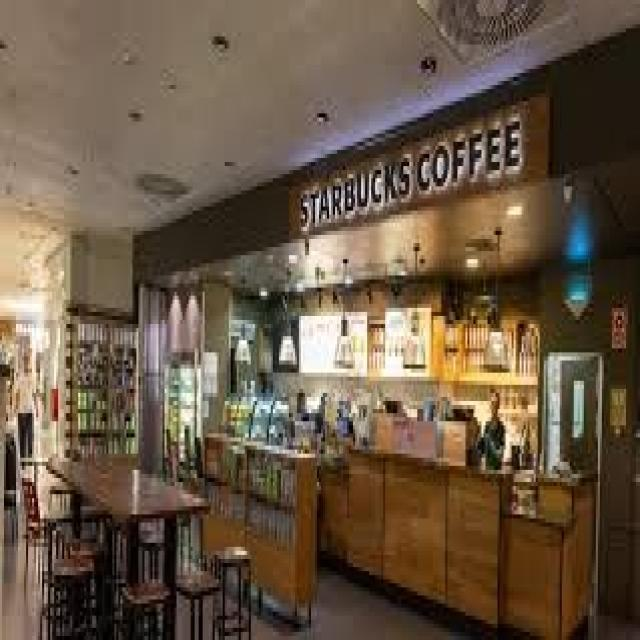starbucks: (294, 118, 538, 243)
